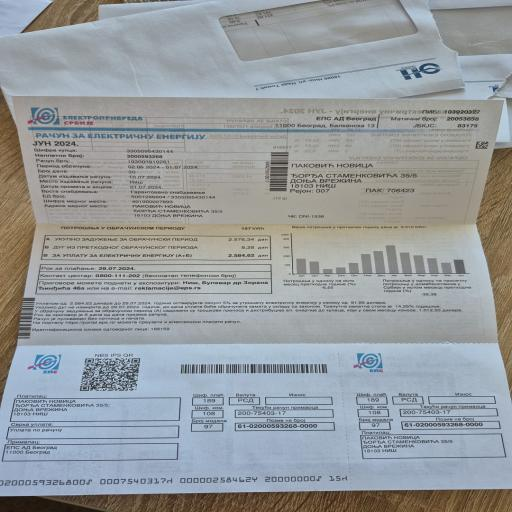racun_za_struju: (38, 224, 278, 272)
